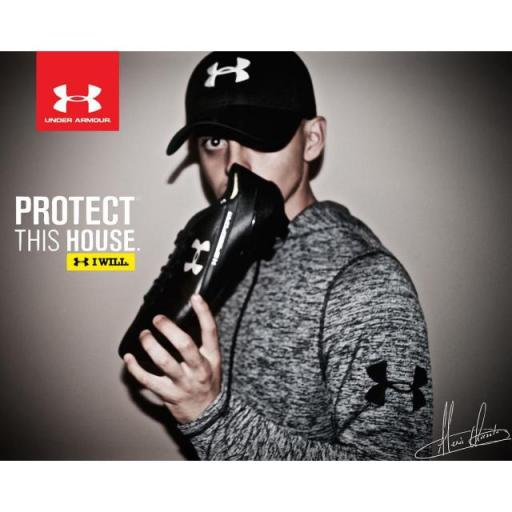Under Armour: (39, 77, 115, 128)
